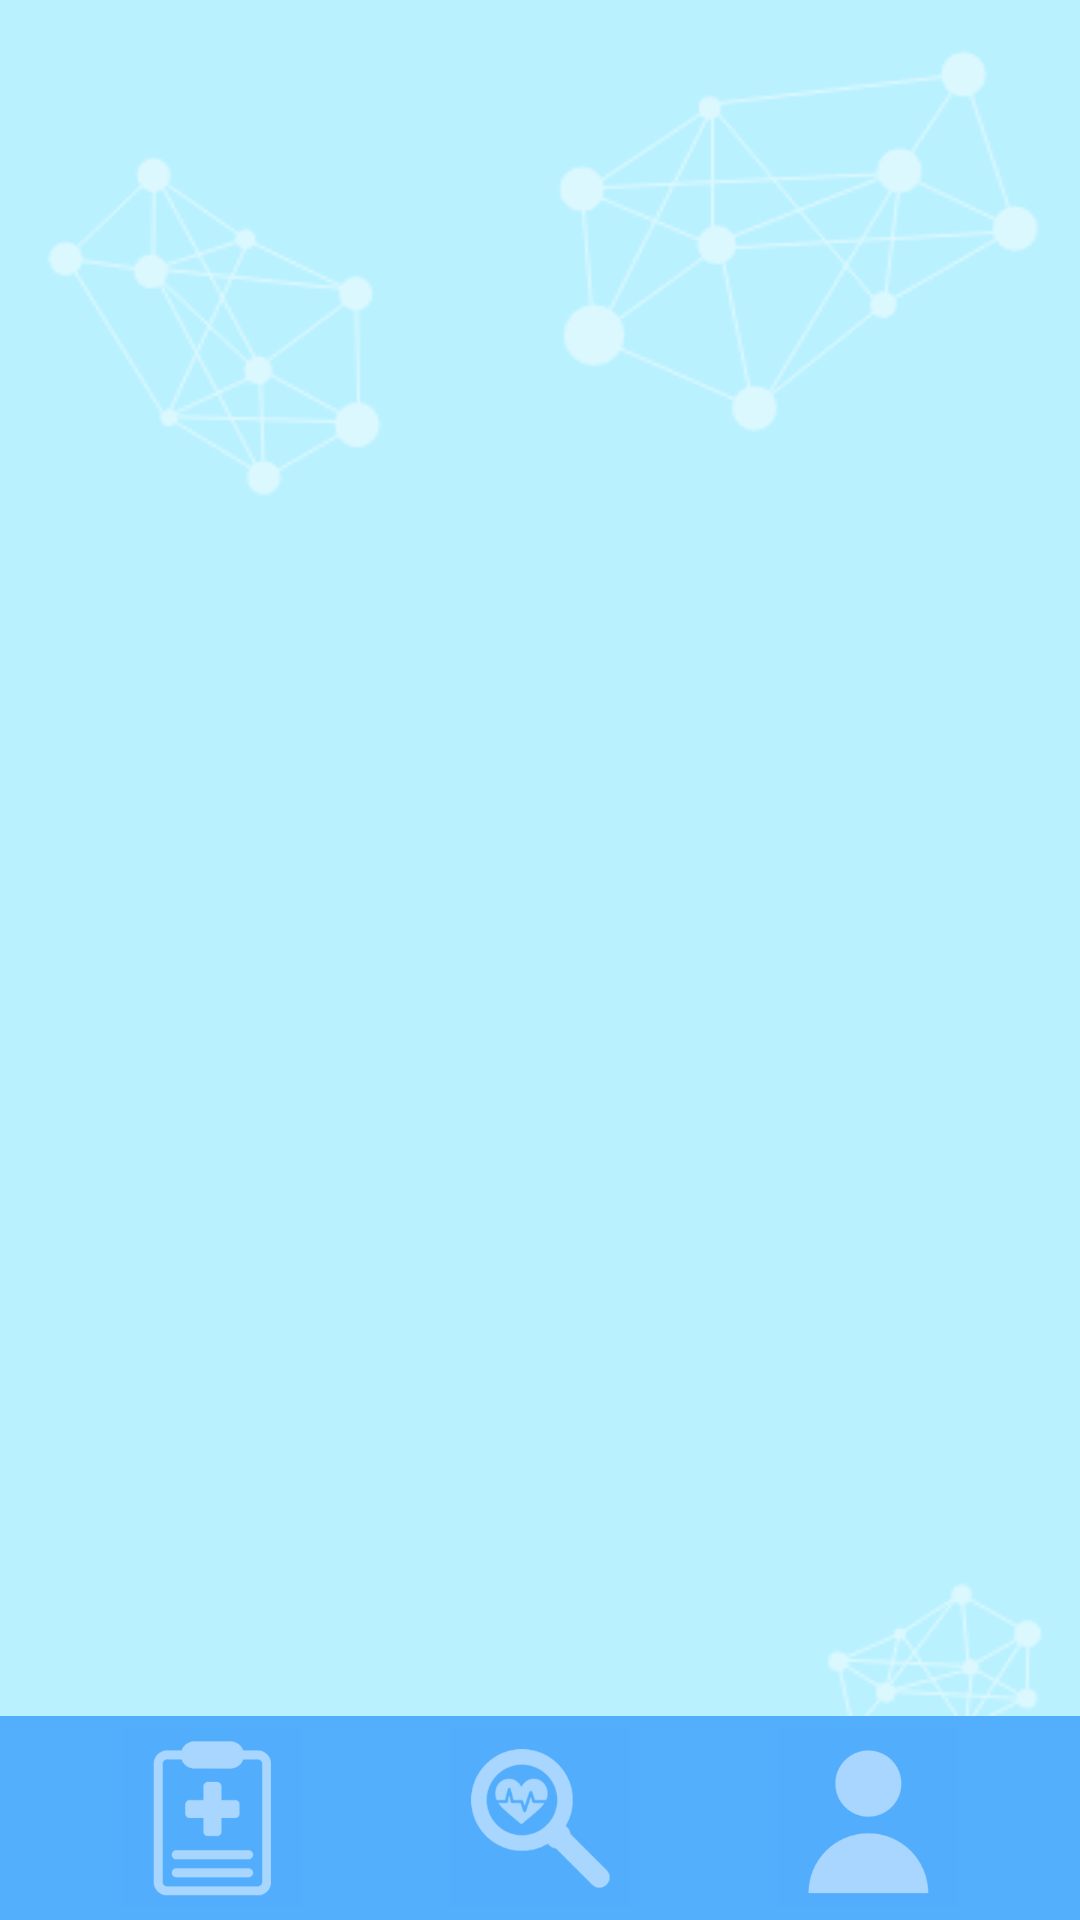

Point at icon controls on the screen. Image size 1080 x 1920, points as (x=x, y=y).
checkup guide off: (x=540, y=1818)
health record off: (x=212, y=1818)
profile data off: (x=868, y=1821)
